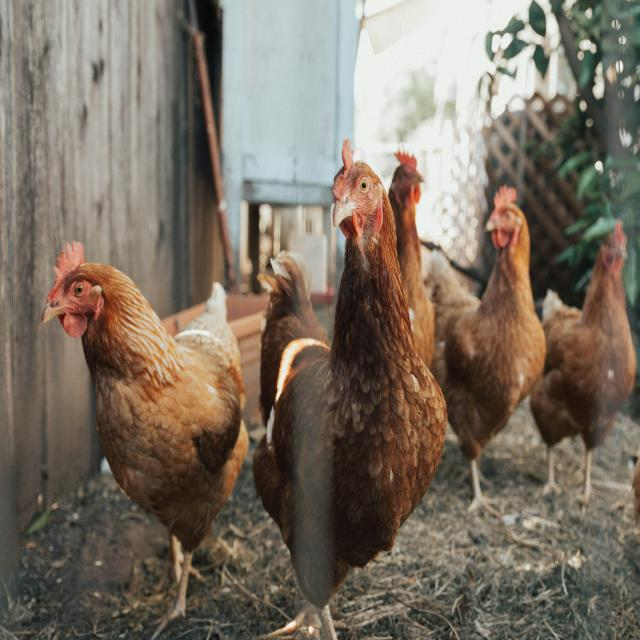Chicken: (31, 194, 246, 640), (255, 158, 449, 594), (455, 170, 551, 518), (543, 196, 640, 540), (390, 128, 446, 272)
